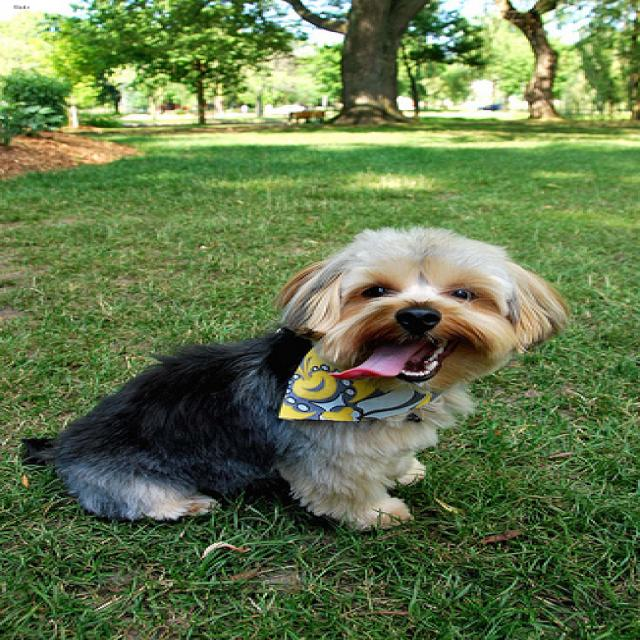dog-yorkshire_terrier: (6, 219, 581, 536)
